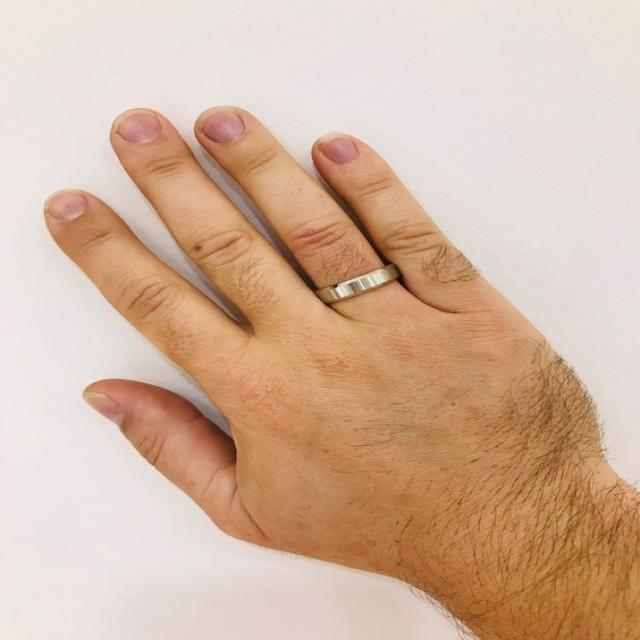Fingernail: (114, 109, 161, 144), (198, 108, 245, 143), (82, 392, 123, 428), (44, 189, 87, 221), (318, 132, 359, 164)
